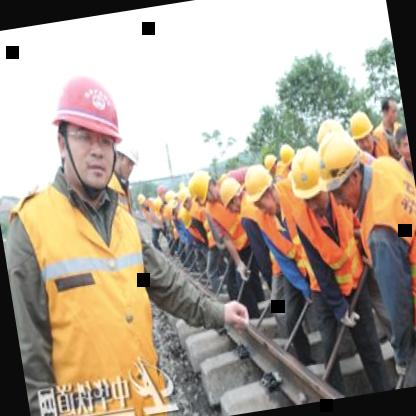head: (376, 90, 405, 132), (391, 122, 412, 167)
helmet: (36, 52, 141, 206), (312, 122, 367, 206), (284, 143, 334, 219), (106, 126, 148, 188), (241, 162, 279, 216), (346, 104, 379, 158), (213, 172, 248, 219), (189, 172, 217, 210), (259, 151, 279, 176)
